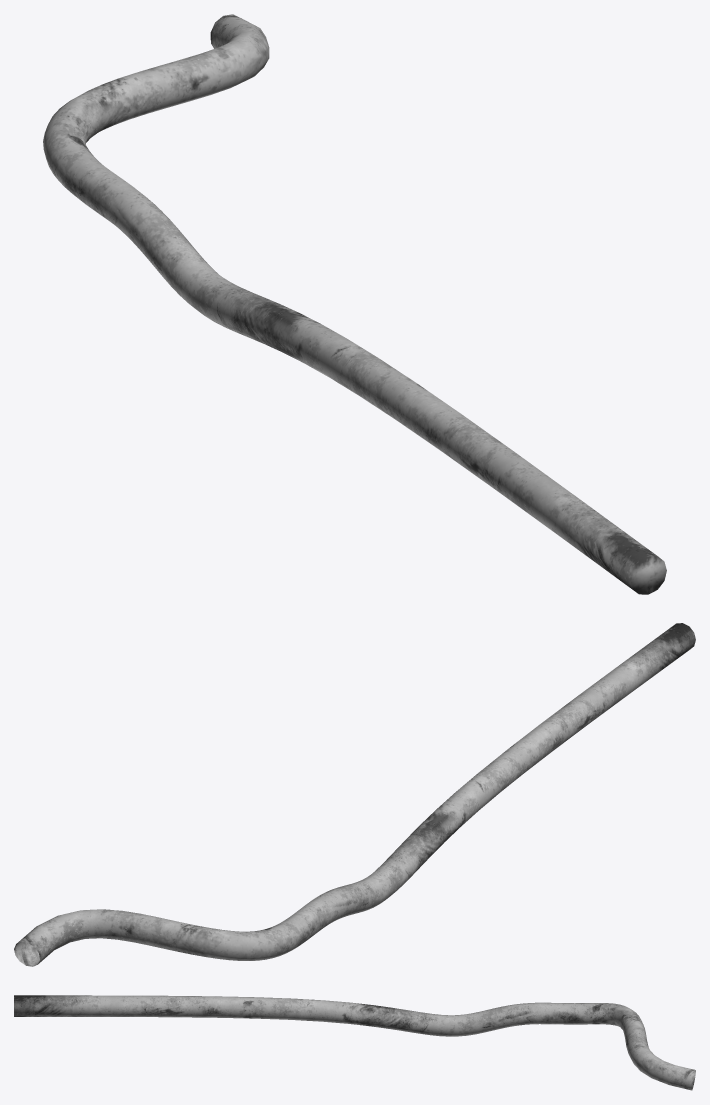
The model's file is Bathroom_Boru1.fbx.
3 views of the same model, one above another, from view 1: azimuth 30°, elevation 25°; view 2: azimuth 150°, elevation 25°; view 3: azimuth 270°, elevation 25° (orthographic). The views are drawn at different scales.
Parts seen in each view (by area): view 1: NurbsPath.001; view 2: NurbsPath.001; view 3: NurbsPath.001.
Boxes of the visible parts, x1,y1,x2,y2 form: NurbsPath.001: (43,14,666,594); NurbsPath.001: (14,623,695,966); NurbsPath.001: (14,995,695,1090).
Size of the model in its own units: 92.56 by 23.37 by 368.
1 material, 1 textured.
